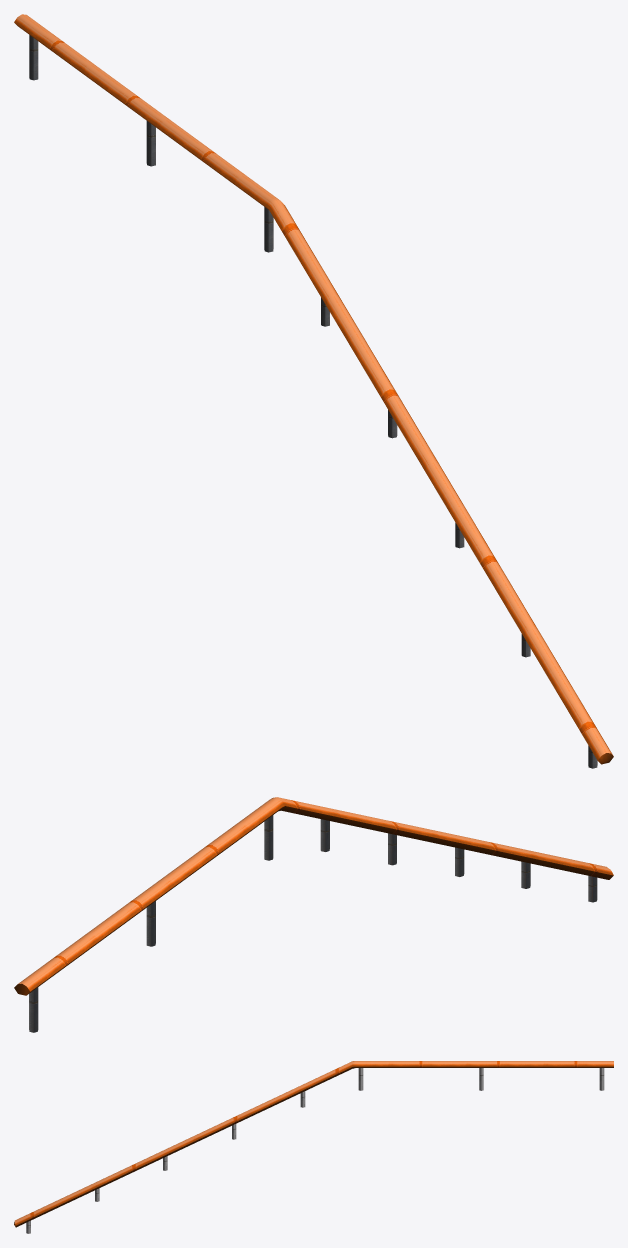
The model's file is SmallStaircase_Rail.obj.
3 views of the same model, one above another, from view 1: azimuth 30°, elevation 25°; view 2: azimuth 150°, elevation 25°; view 3: azimuth 270°, elevation 25° (orthographic). The views are drawn at different scales.
Visible parts, largest first — view 1: ct2_02_n1_ks2_kaidan_000.001; view 2: ct2_02_n1_ks2_kaidan_000.001; view 3: ct2_02_n1_ks2_kaidan_000.001.
Part boxes in pixels (x1,y1,x2,y2): ct2_02_n1_ks2_kaidan_000.001: [14, 14, 613, 768]; ct2_02_n1_ks2_kaidan_000.001: [14, 797, 613, 1032]; ct2_02_n1_ks2_kaidan_000.001: [14, 1061, 613, 1233].
Size of the model in its own units: 0.28 by 5.5 by 17.42.
